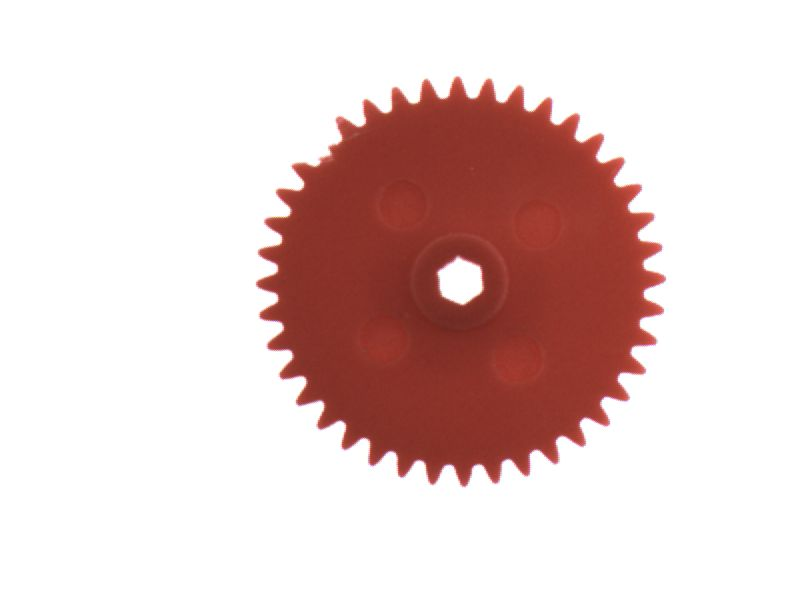defect_lack: (290, 119, 346, 173)
